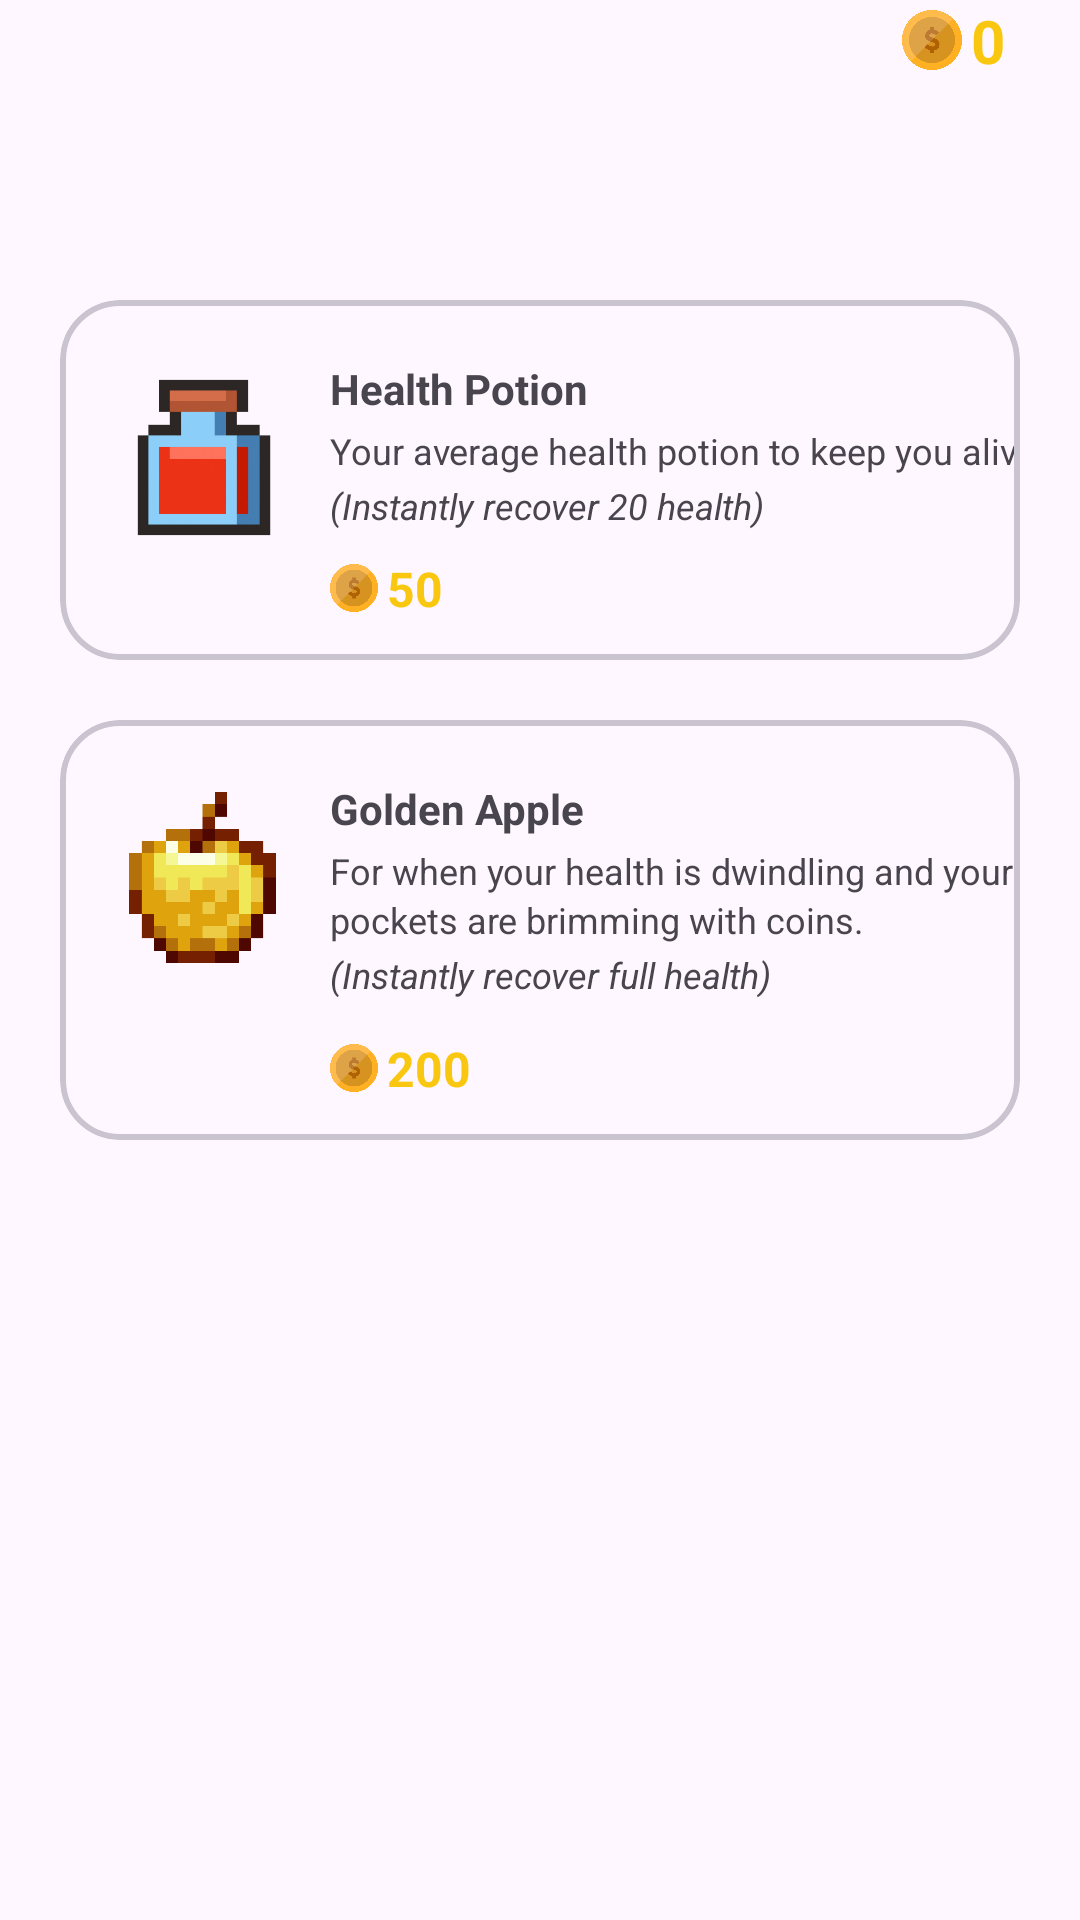

Screen size 1080x1920. Icon name, then its box in pixels as region(x1, y1, x2, y2):
healing potion: region(137, 380, 271, 535)
